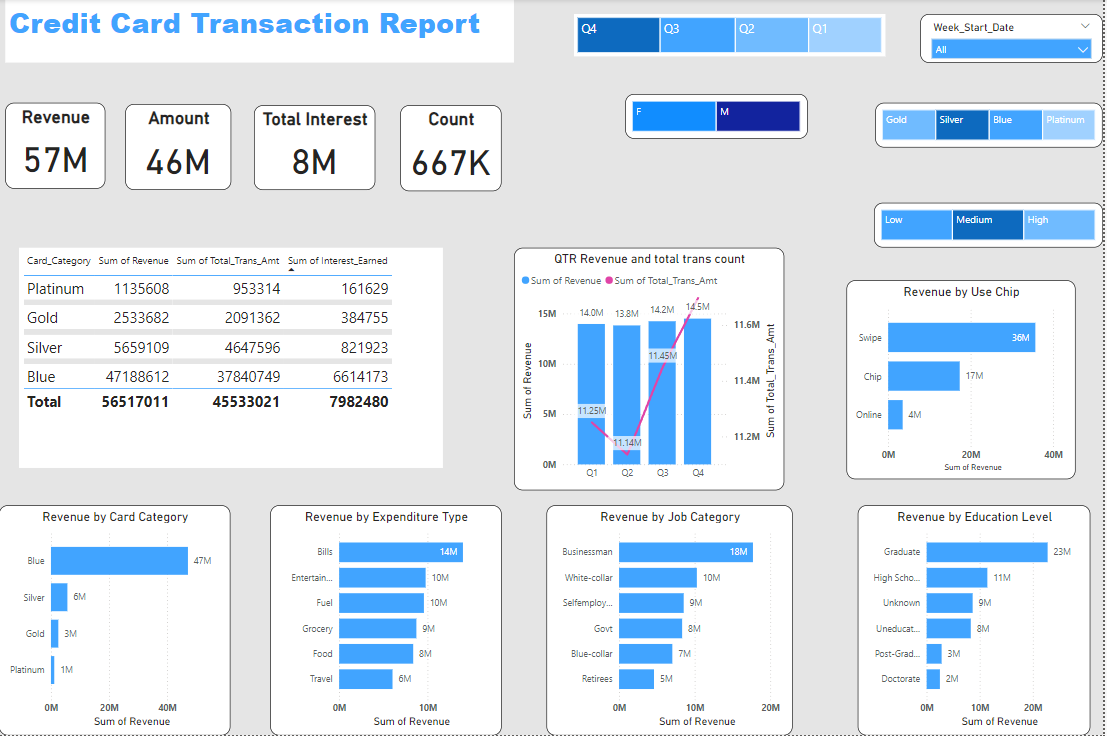

The dashboard page shown, as its layout file describes it:
{"tool":"powerbi","page":{"name":"CC Transaction","canvas":[1500,1000],"ordinal":1},"visuals":[{"type":"textbox","box":[8.5,0,691.2,86.6],"z":0},{"type":"lineStackedColumnComboChart","title":"QTR Revenue and total trans count ","fields":{"Category":["credit_card.Qtr"],"Y":["Sum(credit_card.Revenue)"],"Y2":["Sum(credit_card.Total_Trans_Amt)"]},"box":[699.7,338,366.8,329.5],"z":1000},{"type":"barChart","title":"Revenue by Expenditure Type","fields":{"Y":["Sum(credit_card.Revenue)"],"Category":["credit_card.Exp Type"]},"box":[368.5,687.8,314.2,312.5],"z":2000},{"type":"barChart","title":"Revenue by Education Level","fields":{"Y":["Sum(credit_card.Revenue)"],"Category":["customer.Education_Level"]},"box":[1166.8,687.8,315.9,312.5],"z":3000},{"type":"barChart","title":"Revenue by Job Category","fields":{"Y":["Sum(credit_card.Revenue)"],"Category":["customer.Customer_Job"]},"box":[743.9,687.8,334.6,312.5],"z":4000},{"type":"barChart","title":"Revenue by Card Category","fields":{"Y":["Sum(credit_card.Revenue)"],"Category":["credit_card.Card_Category"]},"box":[0,687.8,314.2,312.5],"z":5000},{"type":"barChart","title":"Revenue by Use Chip","fields":{"Y":["Sum(credit_card.Revenue)"],"Category":["credit_card.Use Chip"]},"box":[1151.5,382.1,310.8,270],"z":6000},{"type":"tableEx","fields":{"Values":["credit_card.Card_Category","Sum(credit_card.Revenue)","Sum(credit_card.Total_Trans_Amt)","Sum(credit_card.Interest_Earned)"]},"box":[27.2,338,575.8,298.9],"z":7000},{"type":"card","title":"Revenue","fields":{"Values":["Sum(credit_card.Revenue)"]},"box":[8.5,141,135.9,117.2],"z":8000},{"type":"card","title":"Amount","fields":{"Values":["Sum(credit_card.Total_Trans_Amt)"]},"box":[171.5,142.7,144.4,117.2],"z":9000},{"type":"card","title":"Total Interest","fields":{"Values":["Sum(credit_card.Interest_Earned)"]},"box":[346.5,144.4,164.7,115.5],"z":10000},{"type":"card","title":"Count","fields":{"Values":["Sum(credit_card.Total_Trans_Vol)"]},"box":[545.2,144.4,137.6,117.2],"z":11000},{"type":"slicer","fields":{"Values":["credit_card.Week_Start_Date"]},"box":[1251.7,20.4,248,66.2],"z":12000},{"type":"treemap","fields":{"Values":["Avg(credit_card.Client_Num)"],"Group":["customer.Gender"]},"box":[850.9,129.1,248,61.1],"z":13000},{"type":"treemap","fields":{"Values":["Avg(credit_card.Client_Num)"],"Group":["credit_card.Card_Category"]},"box":[1190.6,141,309.1,61.1],"z":14000},{"type":"treemap","fields":{"Values":["Avg(credit_card.Client_Num)"],"Group":["customer.IncomeGroup"]},"box":[1188.9,276.8,310.8,61.1],"z":15000},{"type":"treemap","fields":{"Group":["credit_card.Qtr"],"Values":["Avg(credit_card.Client_Num)"]},"box":[781.3,20.4,422.9,57.7],"z":16000}]}

Visuals, with their boxes in screenshot pixels (x1, y1, x2, y2), scaled from the page's 1500x1000 canvas onto the 1107x736 screenshot:
textbox: x1=6, y1=0, x2=516, y2=64
"QTR Revenue and total trans count " lineStackedColumnComboChart: x1=516, y1=249, x2=787, y2=491
"Revenue by Expenditure Type" barChart: x1=272, y1=506, x2=504, y2=735
"Revenue by Education Level" barChart: x1=861, y1=506, x2=1094, y2=735
"Revenue by Job Category" barChart: x1=549, y1=506, x2=796, y2=735
"Revenue by Card Category" barChart: x1=0, y1=506, x2=232, y2=735
"Revenue by Use Chip" barChart: x1=850, y1=281, x2=1079, y2=480
tableEx - credit_card.Card_Category x Sum(credit_card.Revenue): x1=20, y1=249, x2=445, y2=469
"Revenue" card: x1=6, y1=104, x2=107, y2=190
"Amount" card: x1=127, y1=105, x2=233, y2=191
"Total Interest" card: x1=256, y1=106, x2=377, y2=191
"Count" card: x1=402, y1=106, x2=504, y2=193
slicer - credit_card.Week_Start_Date: x1=924, y1=15, x2=1106, y2=64
treemap - Avg(credit_card.Client_Num) x customer.Gender: x1=628, y1=95, x2=811, y2=140
treemap - Avg(credit_card.Client_Num) x credit_card.Card_Category: x1=879, y1=104, x2=1106, y2=149
treemap - Avg(credit_card.Client_Num) x customer.IncomeGroup: x1=877, y1=204, x2=1106, y2=249
treemap - credit_card.Qtr x Avg(credit_card.Client_Num): x1=577, y1=15, x2=889, y2=57
